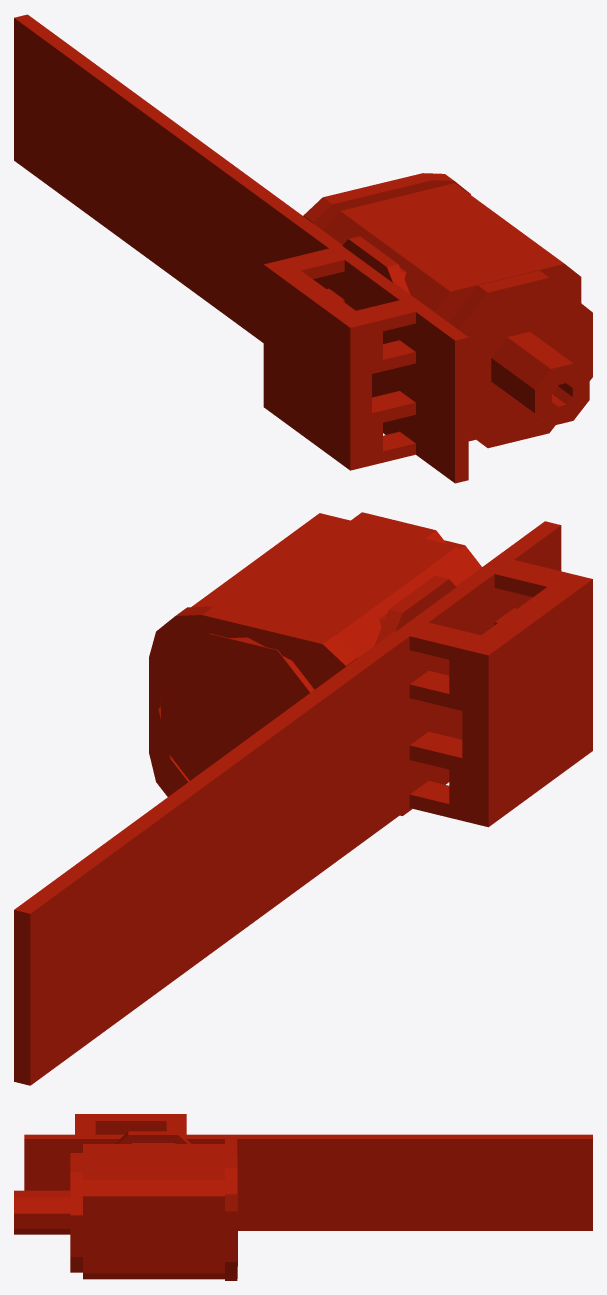
The model's file is Motor_LOW_POLY.dae.
3 views of the same model, one above another, from view 1: azimuth 30°, elevation 25°; view 2: azimuth 150°, elevation 25°; view 3: azimuth 270°, elevation 25° (orthographic). The views are drawn at different scales.
Parts seen in each view (by area): view 1: Plane, Circle; view 2: Plane, Circle; view 3: Plane, Circle.
Part boxes in pixels (x1,y1,x2,y2): Plane: (14,14,470,483); Circle: (324,183,592,448); Plane: (14,521,592,1085); Circle: (161,512,481,815); Plane: (24,1114,592,1280); Circle: (14,1131,237,1279).
Bounding box in the file's own units: 0.2669 × 0.8551 × 0.1804.
